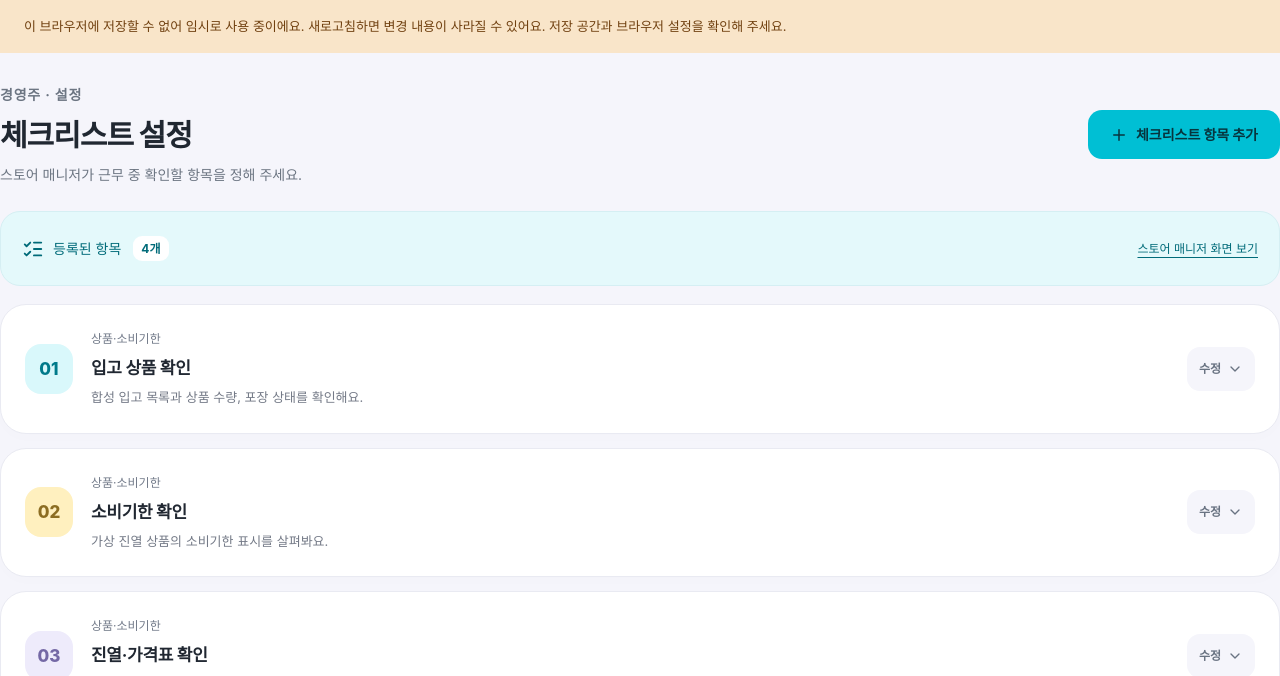
opens a checklist item on demand and preserves its existing completion when edited
Expected: the heading "체크리스트 설정" is shown, [0,116,192,152]
Click the text "입고 상품 확인" at {"x": 141, "y": 368}, box [91,358,190,378]
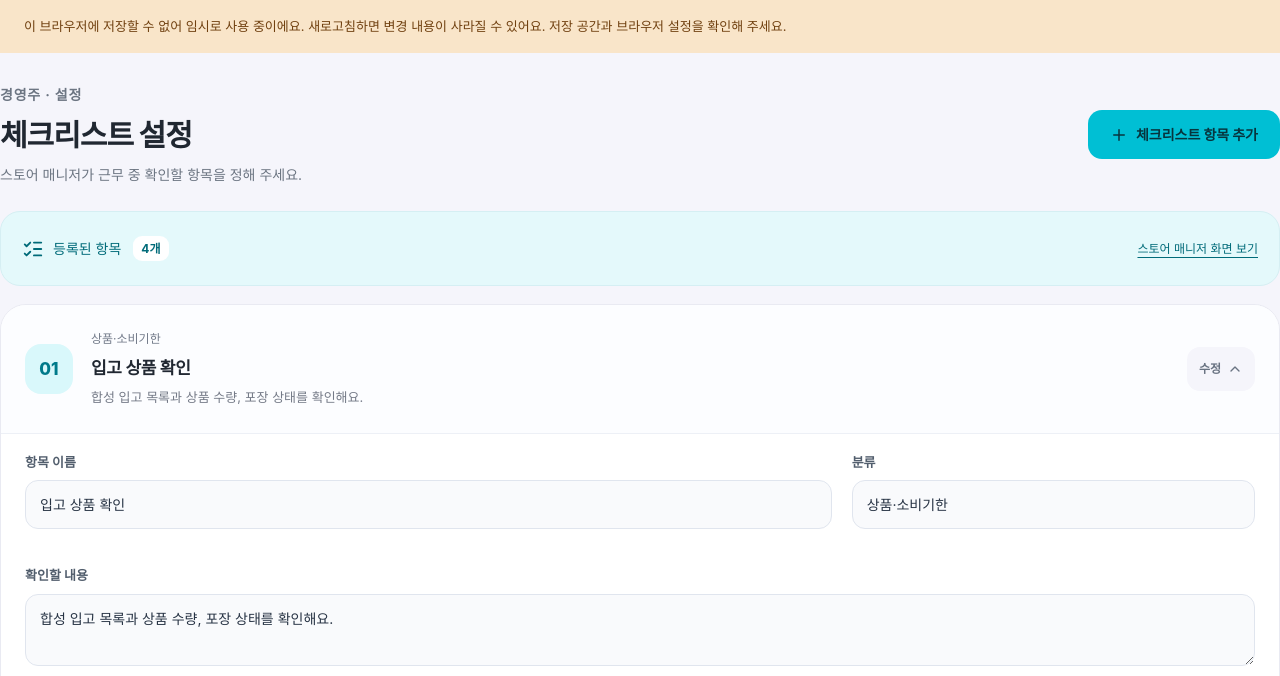
Replace the text in the field labelled "항목 이름" with "출근 후 진열 확인" at {"x": 428, "y": 505}, box [25,480,832,529]
(page scrolled)
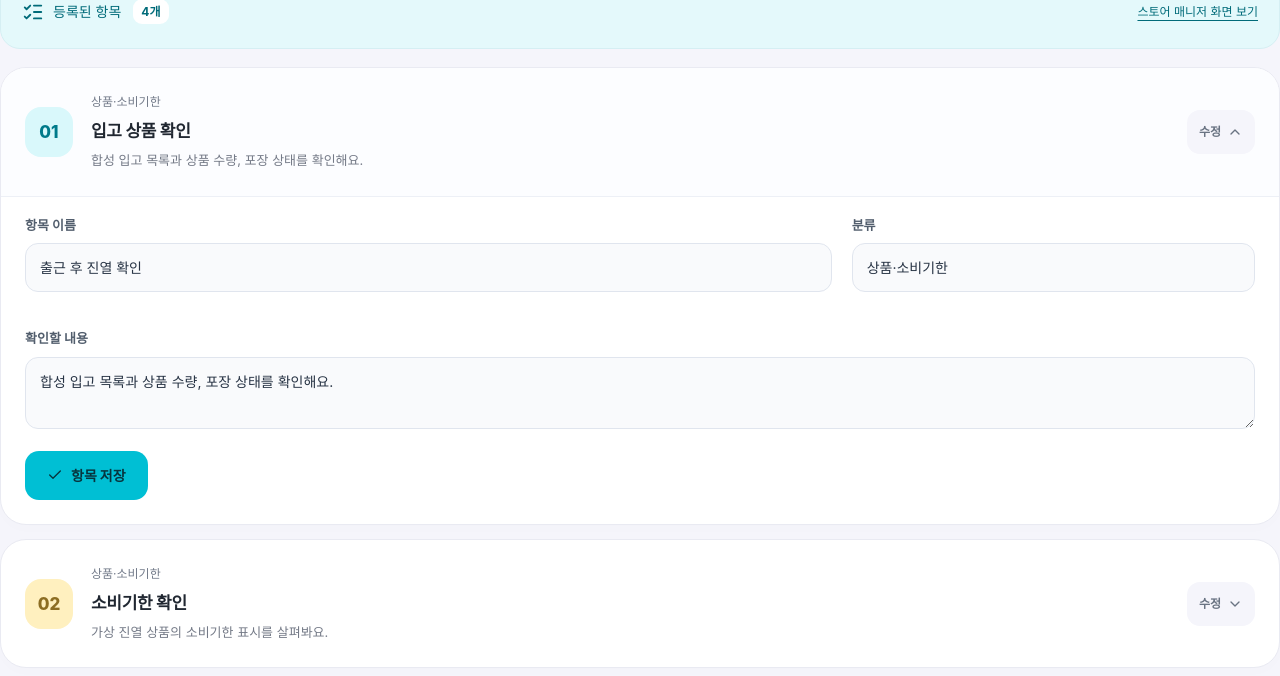
Submit the form, box [1,197,1279,524]
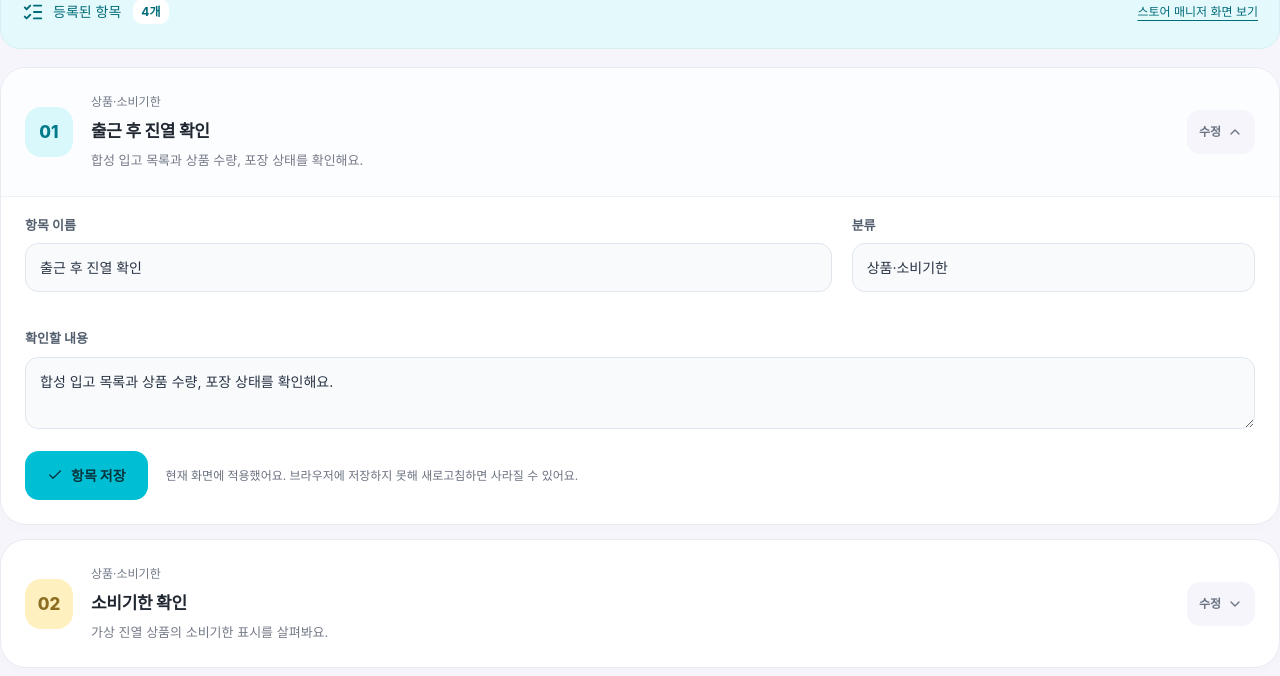
Expected: the text "입고 상품 확인" reads "출근 후 진열 확인", [91,121,210,141]
